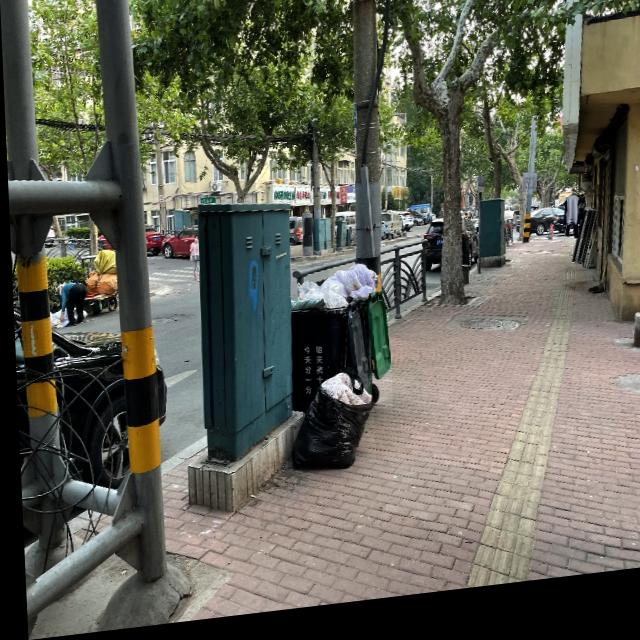garbage: (282, 374, 372, 479)
overflow: (283, 282, 364, 420), (326, 269, 389, 422)
